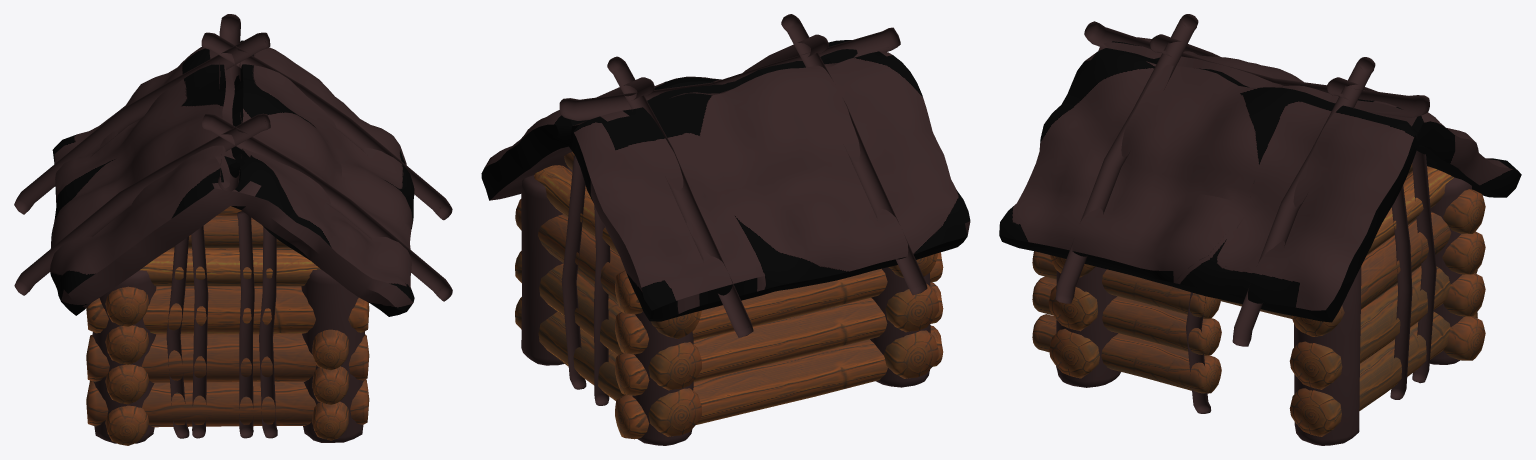
Rendered from domludzi.fbx.
3 views of the same model, side by side, from view 1: azimuth 30°, elevation 25°; view 2: azimuth 150°, elevation 25°; view 3: azimuth 270°, elevation 25° (orthographic). The views are drawn at different scales.
Parts seen in each view (by area): view 1: Cube.006, Cylinder.020, Cylinder.055; view 2: Cube.006, Cylinder.020, Cylinder.055; view 3: Cube.006, Cylinder.020, Cylinder.055.
Boxes of the visible parts, x1=… form: Cube.006: x1=50, y1=40, x2=414, y2=316; Cylinder.020: x1=86, y1=206, x2=369, y2=445; Cylinder.055: x1=14, y1=14, x2=452, y2=443; Cube.006: x1=481, y1=40, x2=970, y2=321; Cylinder.020: x1=515, y1=151, x2=943, y2=439; Cylinder.055: x1=521, y1=14, x2=930, y2=445; Cube.006: x1=999, y1=37, x2=1521, y2=322; Cylinder.020: x1=1032, y1=163, x2=1485, y2=436; Cylinder.055: x1=1055, y1=14, x2=1471, y2=445.
Bounding box in the file's own units: 2178 × 1526 × 2233.
